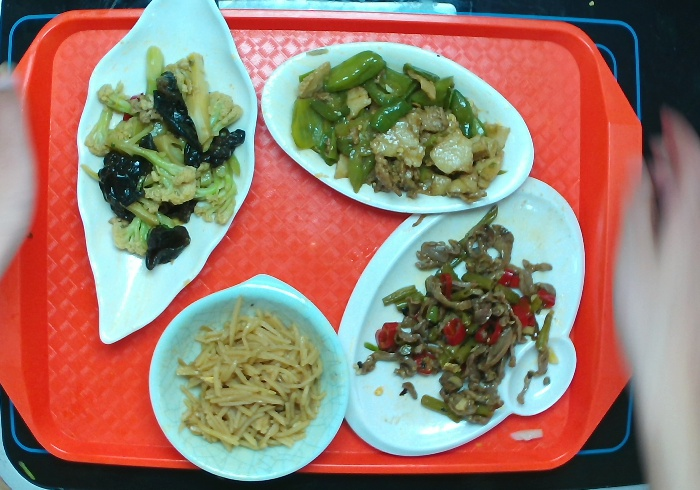RJxy-Bai_Se_Tuo_Yuan: (258, 40, 537, 217)
RJxy-Shu_Ye_Pan: (72, 1, 261, 348)
RJxy-Xiao_Jiao_Yuan_Wan: (147, 269, 355, 490)
RJxy-Zhan_Liao_Pan: (325, 170, 590, 462)
